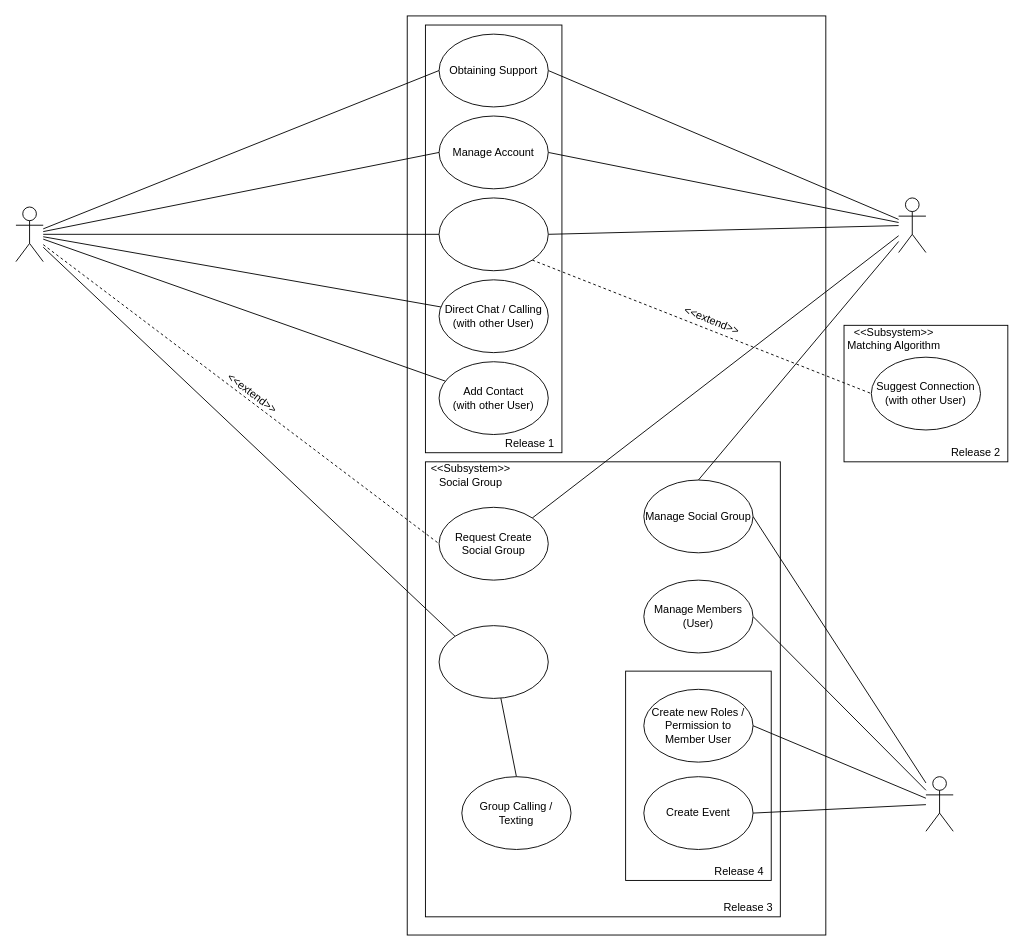
Some shapes in this 1024 by 951 pixel diagram are drawn without their labels. The centre of each missing label's shape, as x and y in pixels:
"Admin User" belongs at (x=939, y=803).
"Administrator" belongs at (x=912, y=225).
"Join Social Group" belongs at (x=493, y=661).
"Manage Profile" belongs at (x=493, y=234).
"User" belongs at (x=29, y=234).
